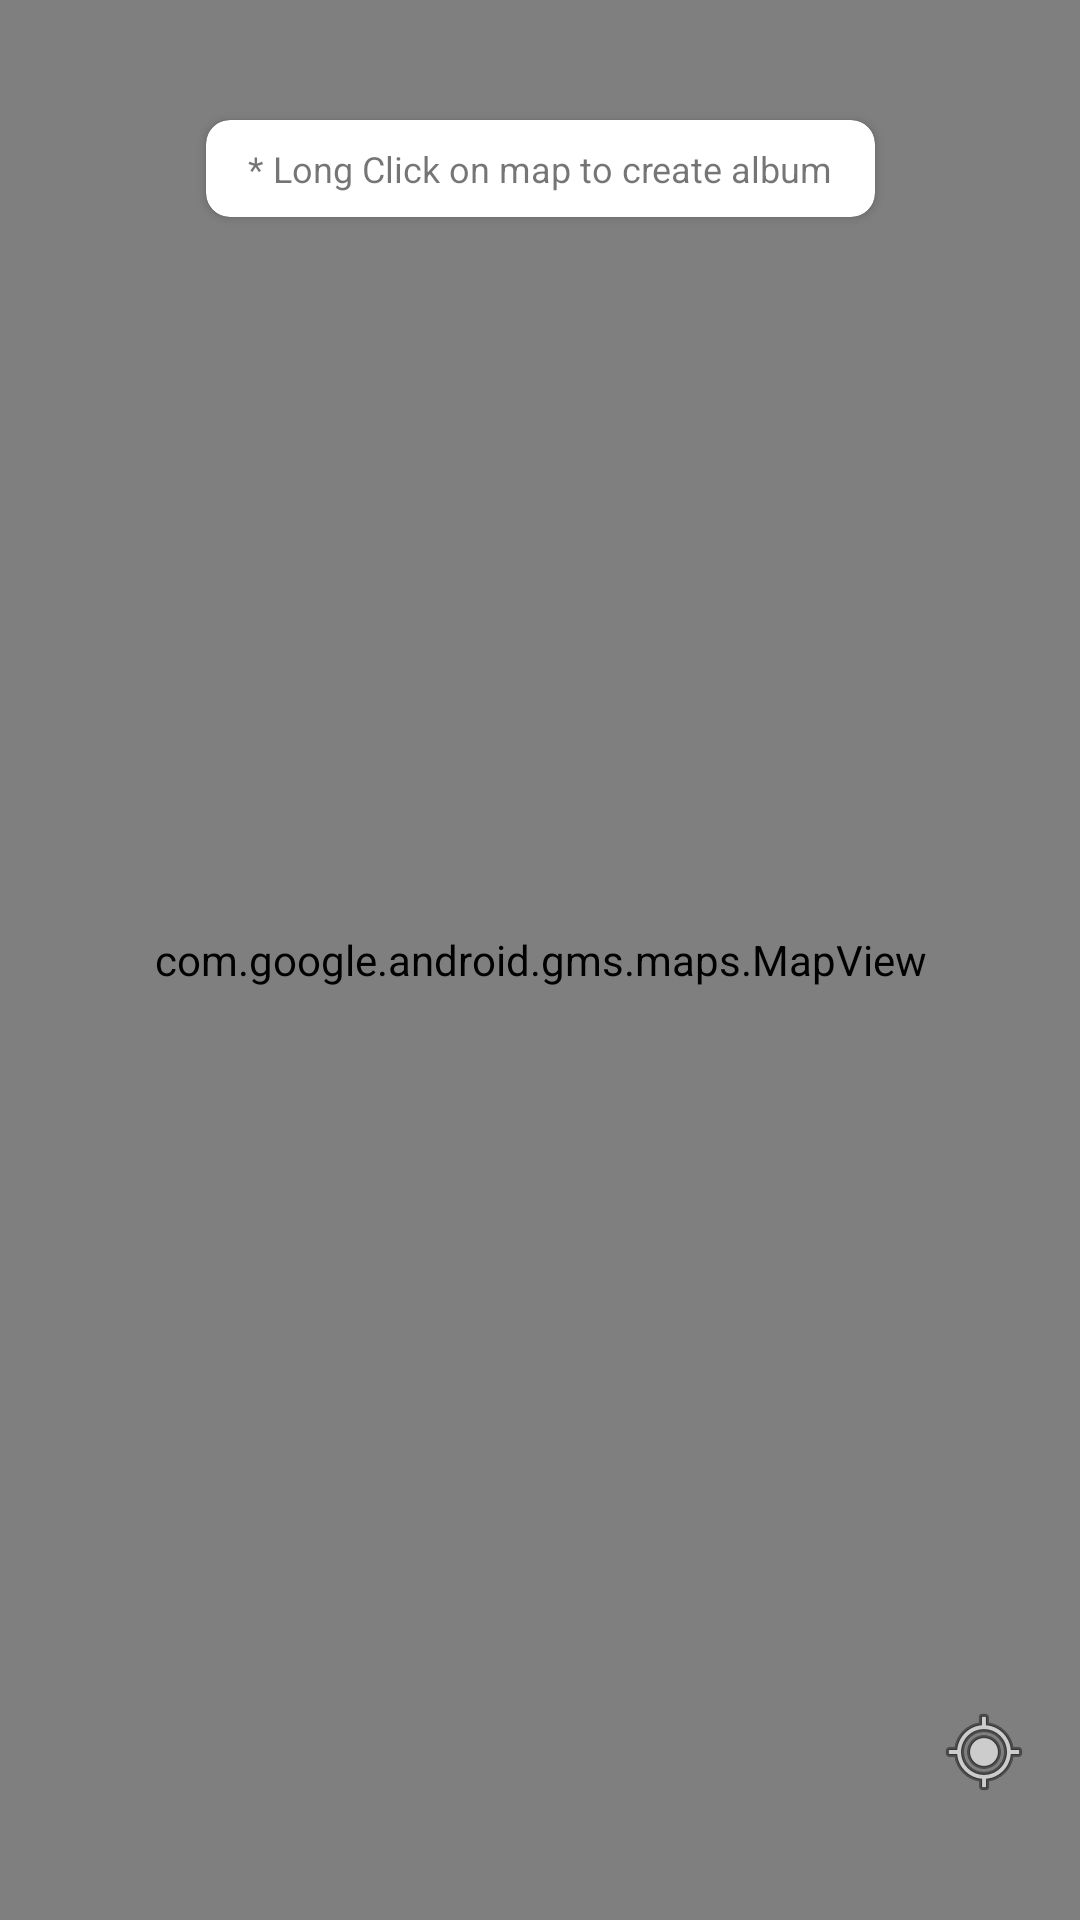

Point at icon controls on the screen. Image size 1080×1920, points as (x,y).
mylocation: (984,1752)
